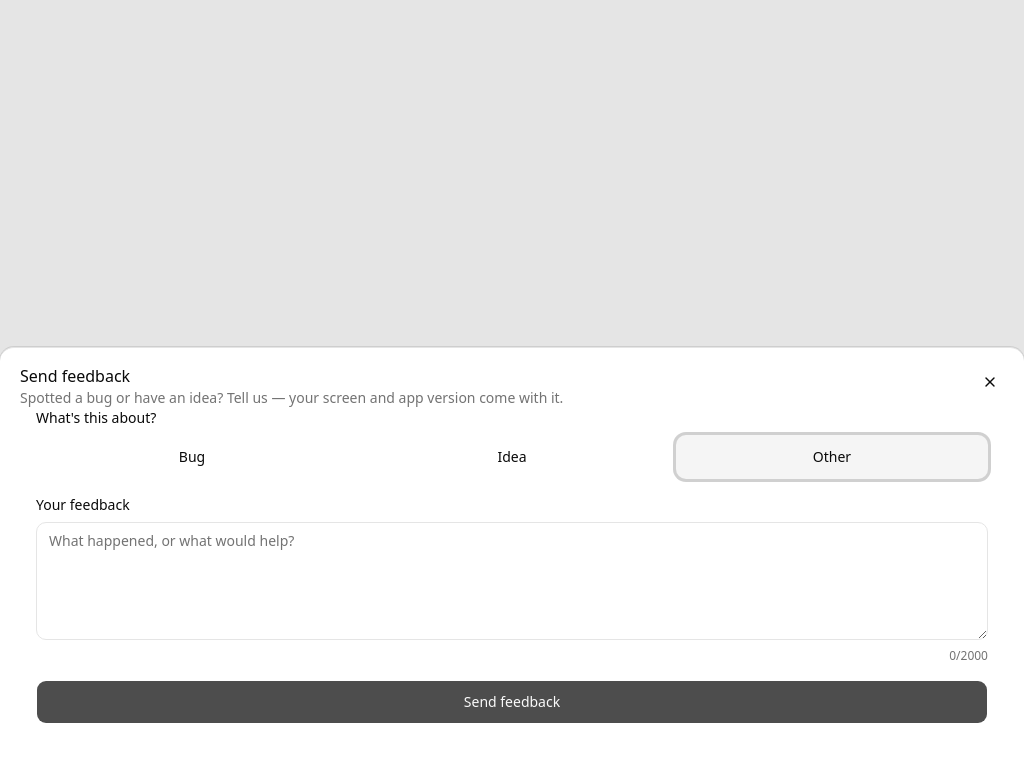
Scenario: FeedbackSheet (S12.2) › submits the chosen category, message and the captured route/release context
This screenshot has width=1024, height=768.
Click the radio button labelled "Idea". click: (512, 457)
box: top-left (356, 435), bottom-right (668, 479)
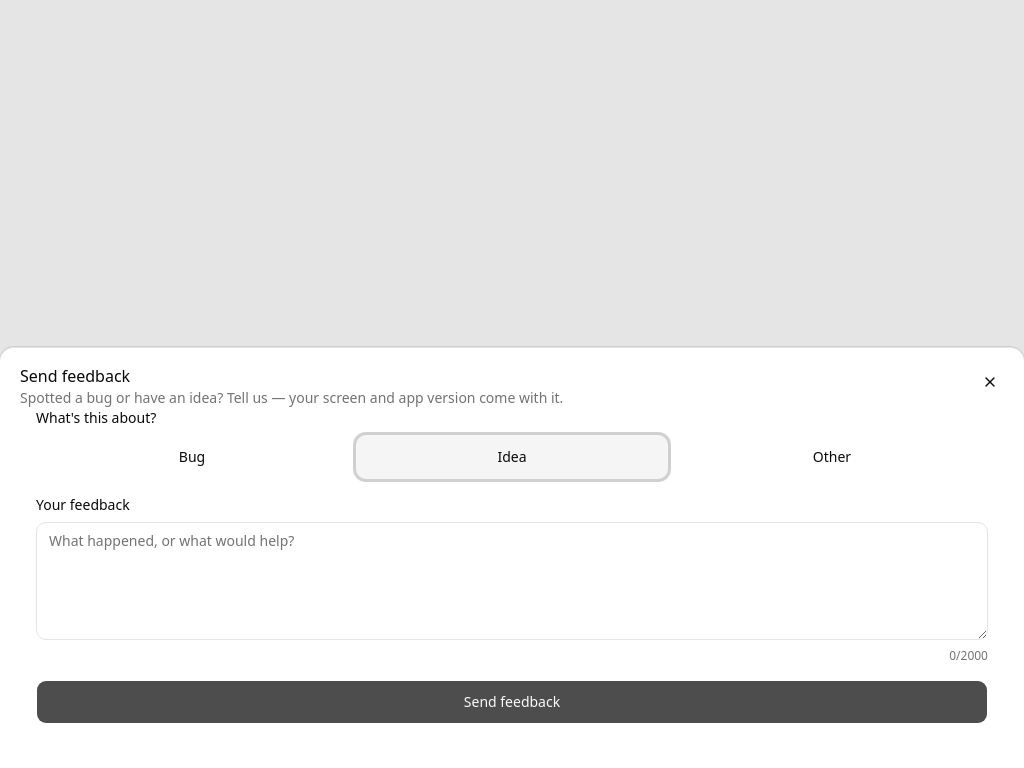
Type "add a dark mode" into the text box labelled "Your feedback". click: (512, 581)
box: top-left (36, 522), bottom-right (988, 640)
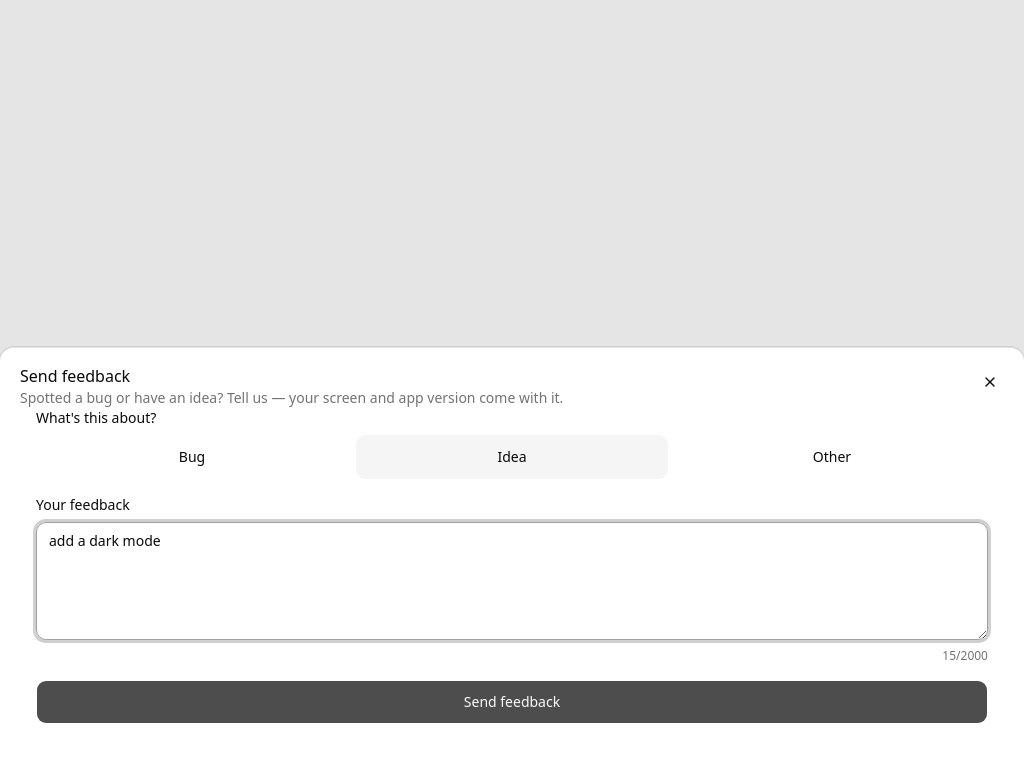
Click the button "Send feedback". click: (512, 702)
box: top-left (36, 680), bottom-right (988, 724)
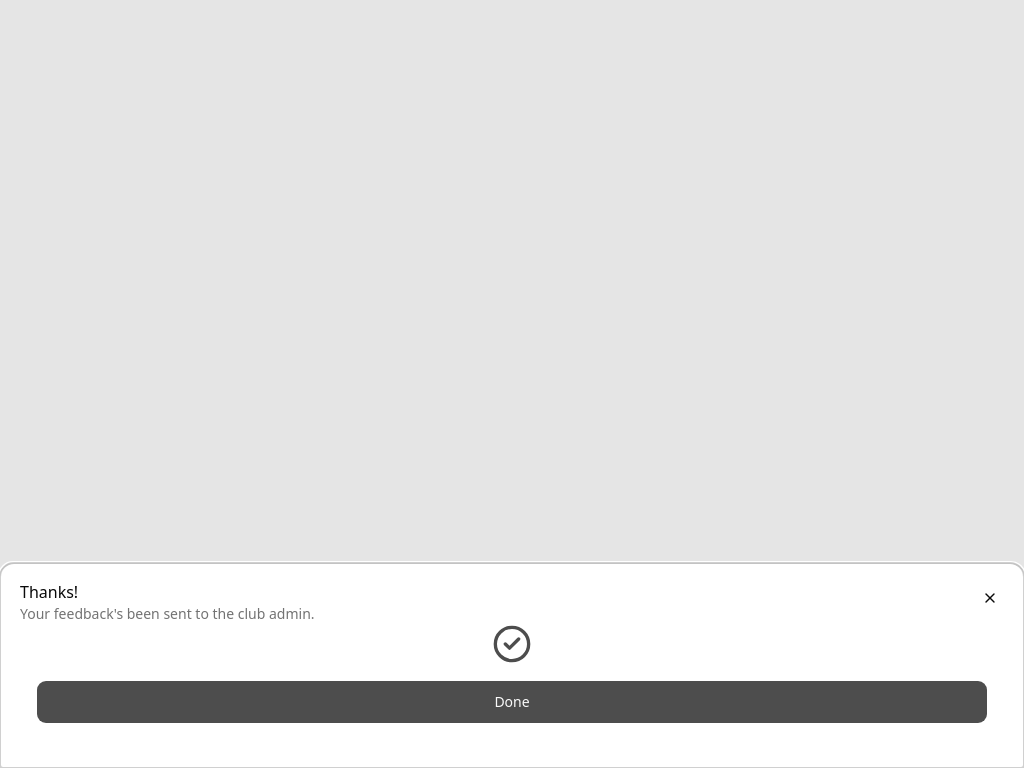
Result: the heading "Thanks!" is shown at top-left (20, 581), bottom-right (78, 603)
